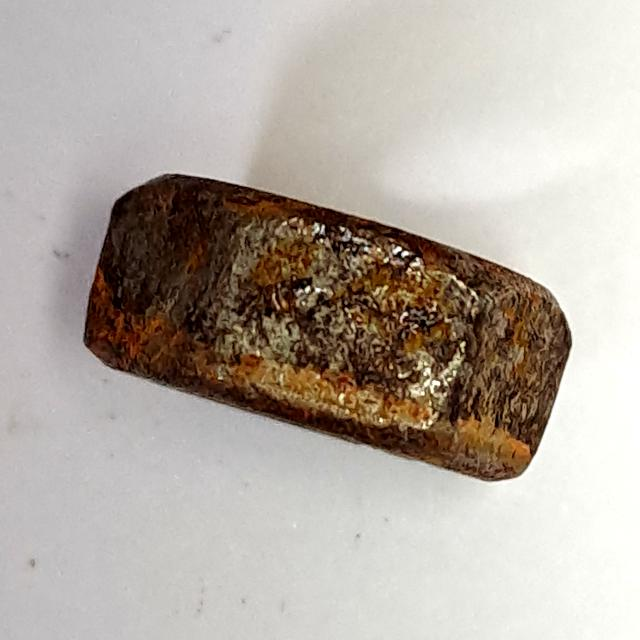Side_Rust: (70, 158, 583, 505)
